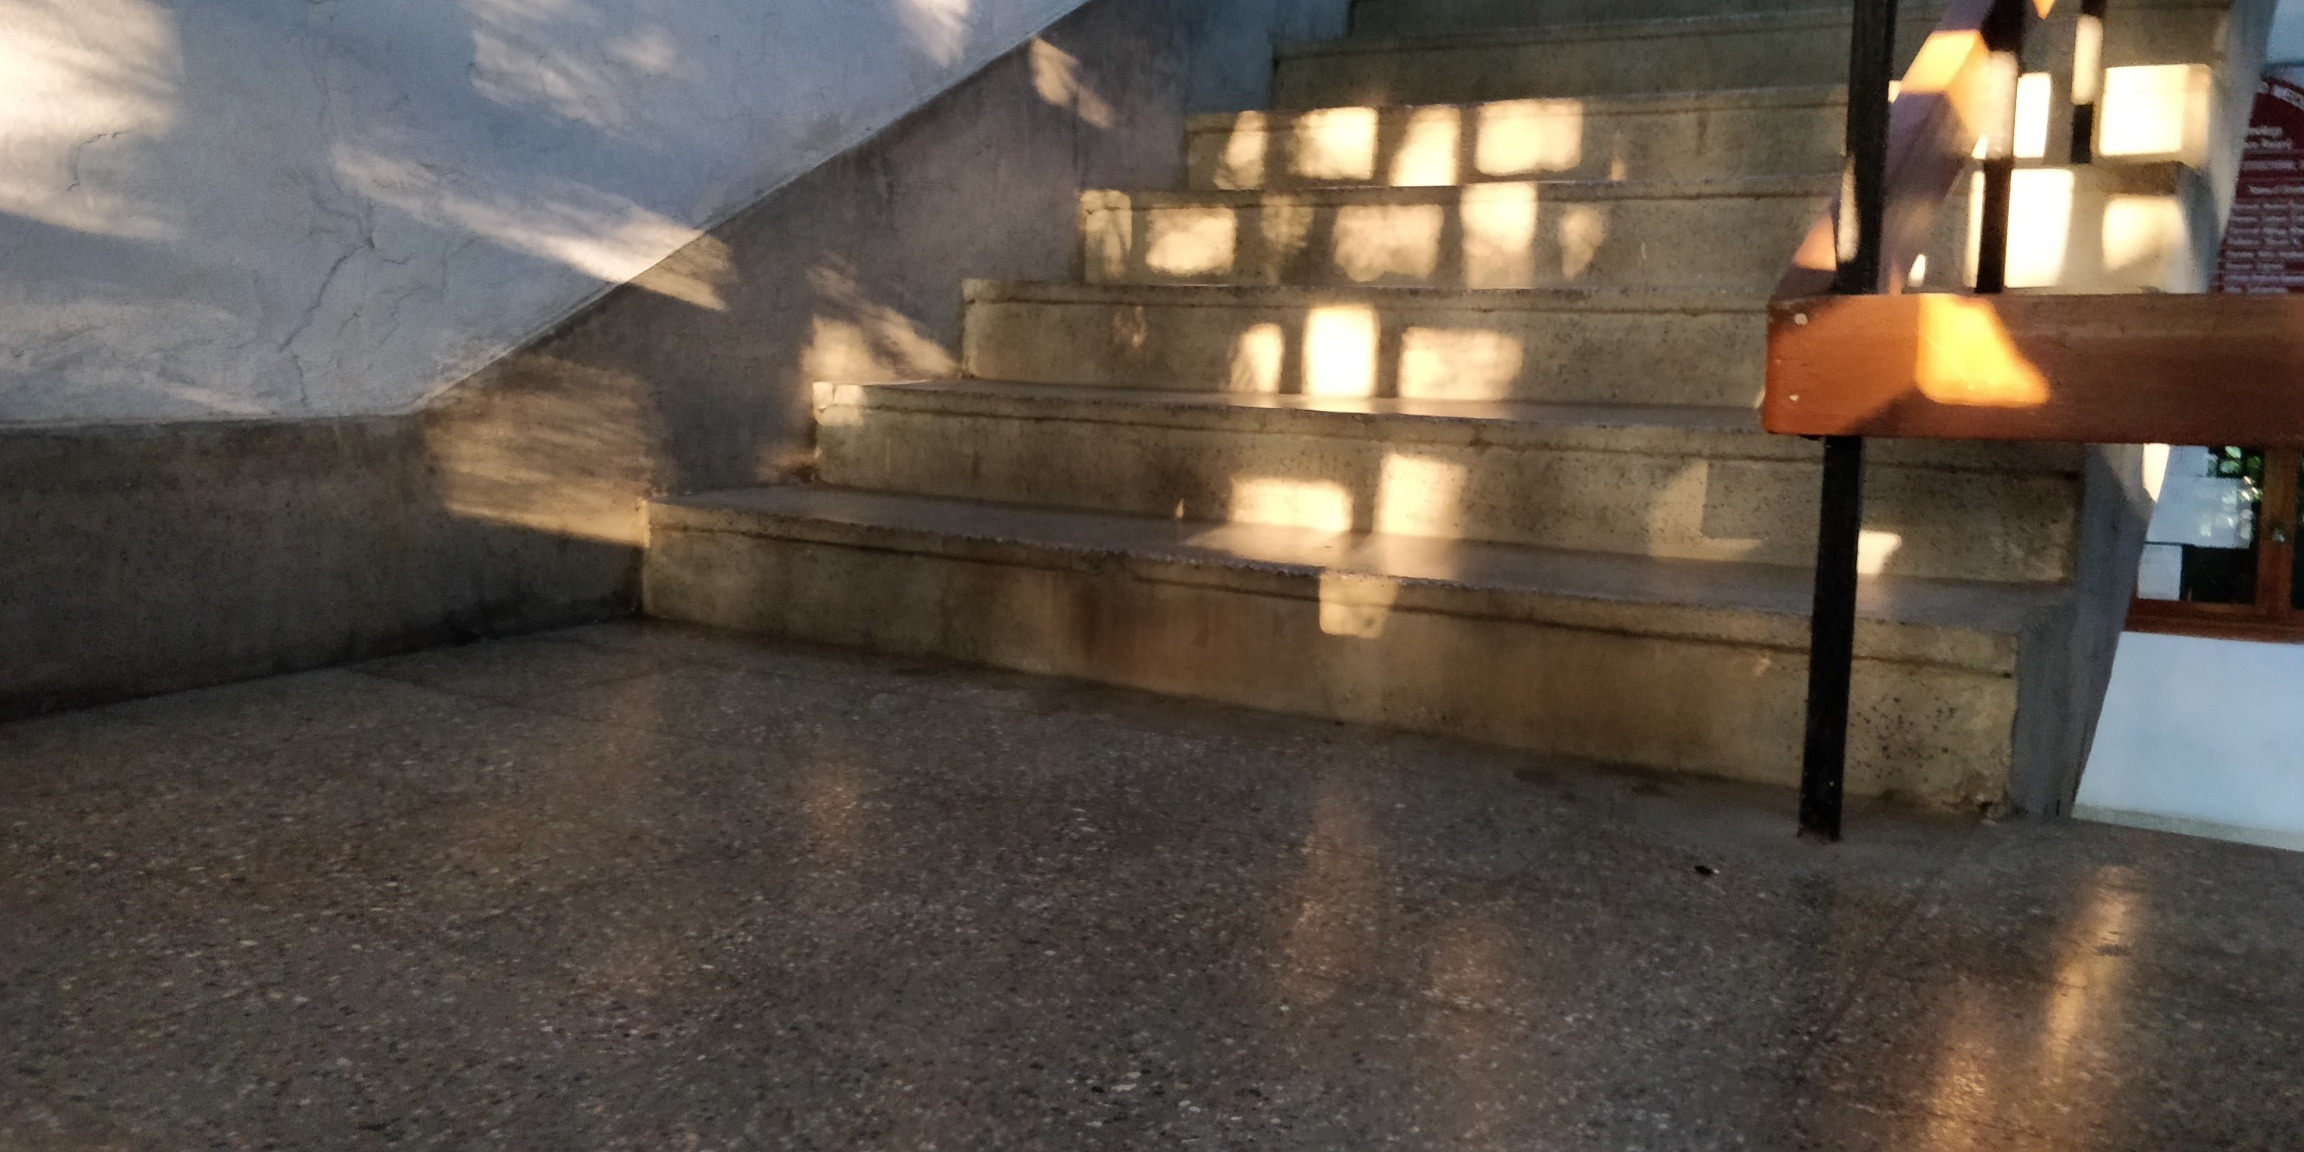stairs_up: (503, 7, 2231, 735)
